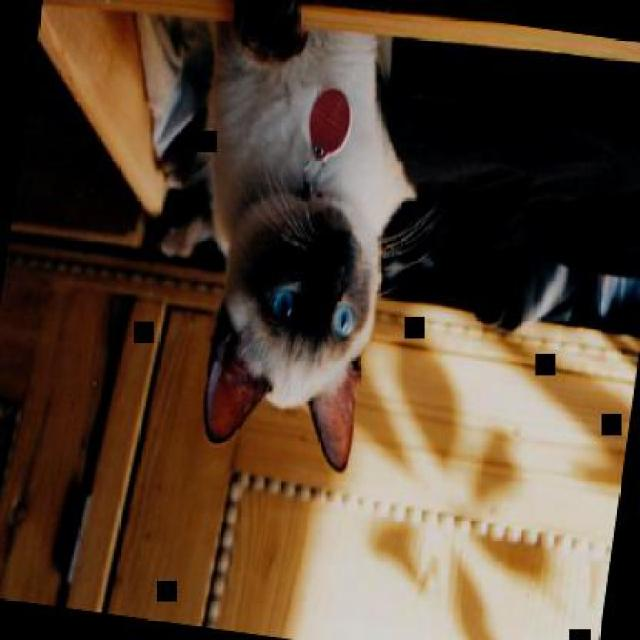cat: (157, 0, 446, 480)
